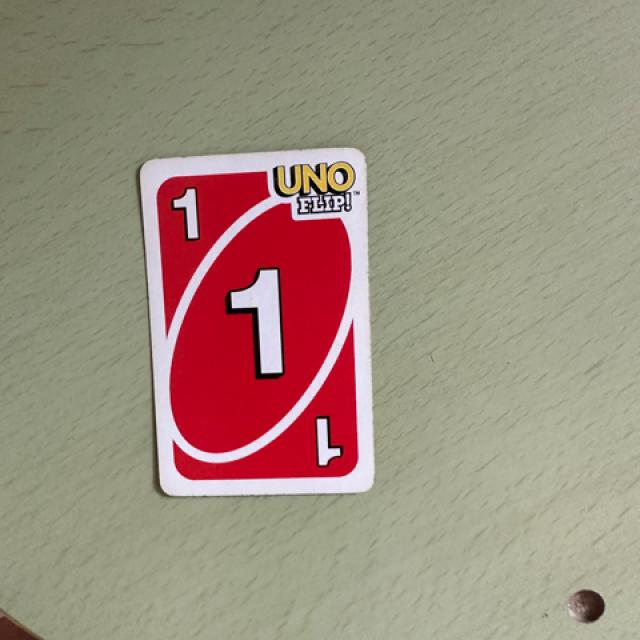lred-1: (148, 171, 228, 260)
